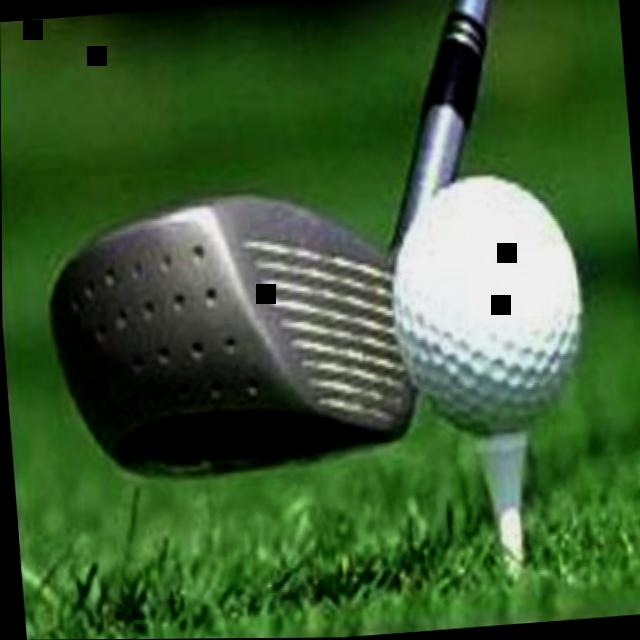golf ball: (376, 174, 601, 440)
